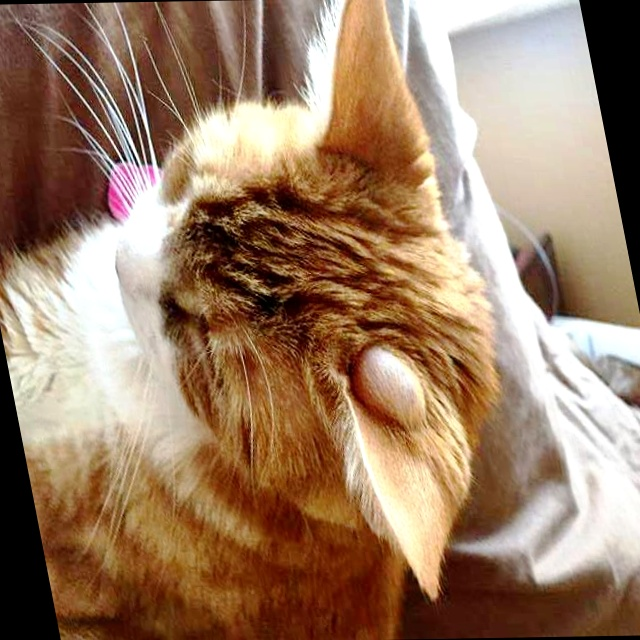lump_and_bump: (348, 348, 433, 422)
